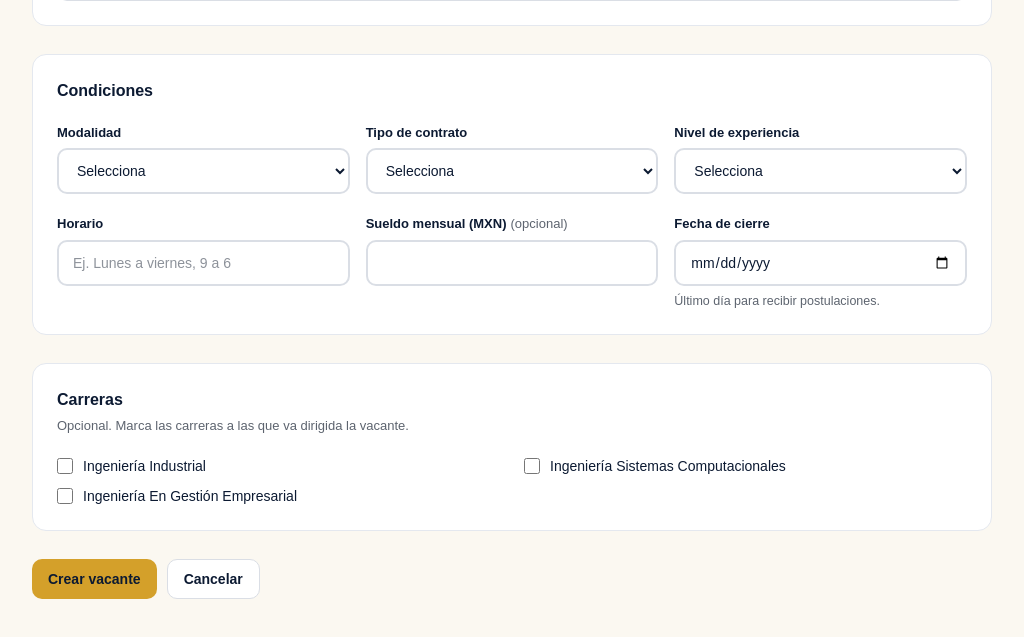
JobFormPage › requires the mandatory fields and rejects a past closing date
(page scrolled)
Type "2020-01-01" into the date field labelled "Fecha de cierre" at coordinates (821, 262), box [674,240,967,286]
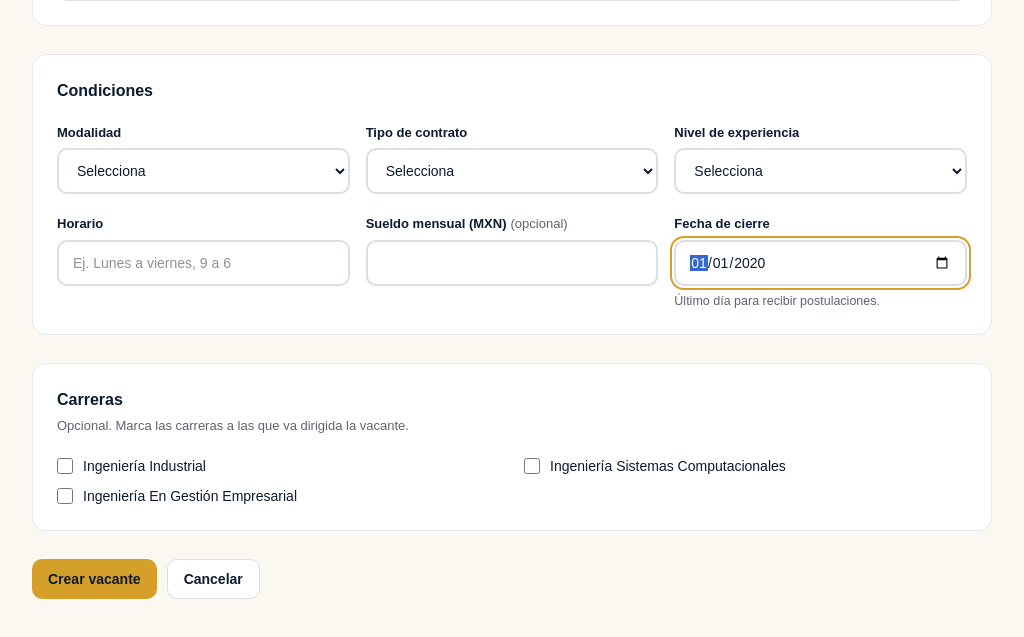
Click the button "Crear vacante" at coordinates (94, 579), box [32,559,157,599]
(page scrolled)
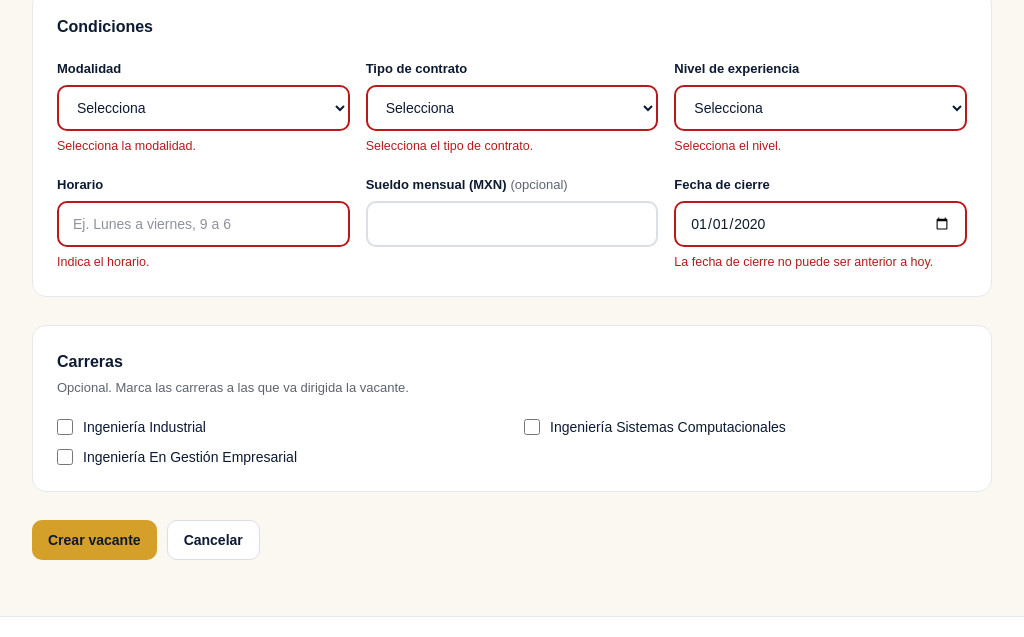
Check: the text "La fecha de cierre no puede ser anterior a hoy." is shown, box [674,253,967,272]
Check: the text "Selecciona la modalidad." is shown, box [57,138,196,152]
Check: the text "Indica el horario." is shown, box [57,255,149,269]
